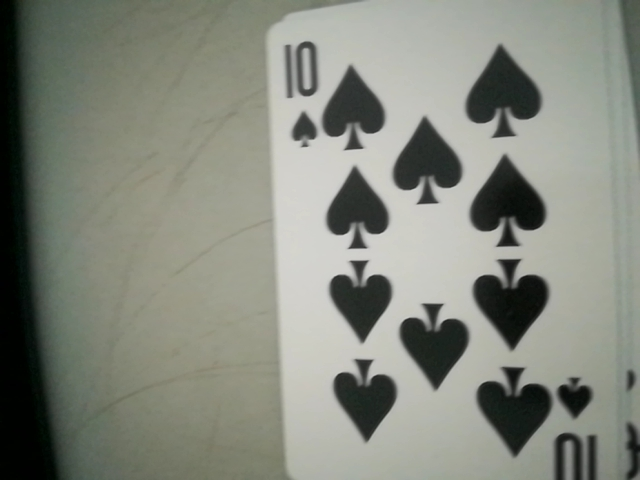ht 10: (269, 32, 338, 158)
